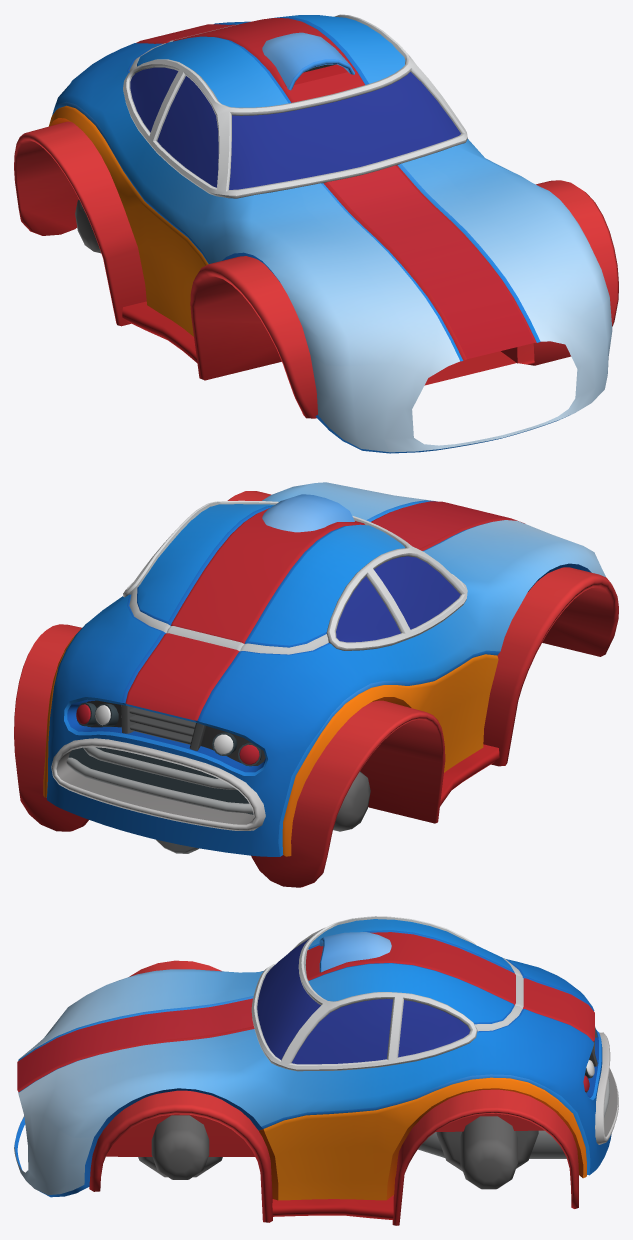
Rendered from Car_02.fbx.
The picture shows the model from 3 angles, top to bottom: view 1: azimuth 30°, elevation 25°; view 2: azimuth 150°, elevation 25°; view 3: azimuth 270°, elevation 25°; orthographic projection. The views are drawn at different scales.
Parts seen in each view (by area): view 1: Car_02; view 2: Car_02; view 3: Car_02.
Part boxes in pixels (x1,y1,x2,y2): Car_02: [14, 14, 618, 453]; Car_02: [14, 482, 618, 887]; Car_02: [14, 916, 618, 1225].
Bounding box in the file's own units: 229 × 389 × 158.
